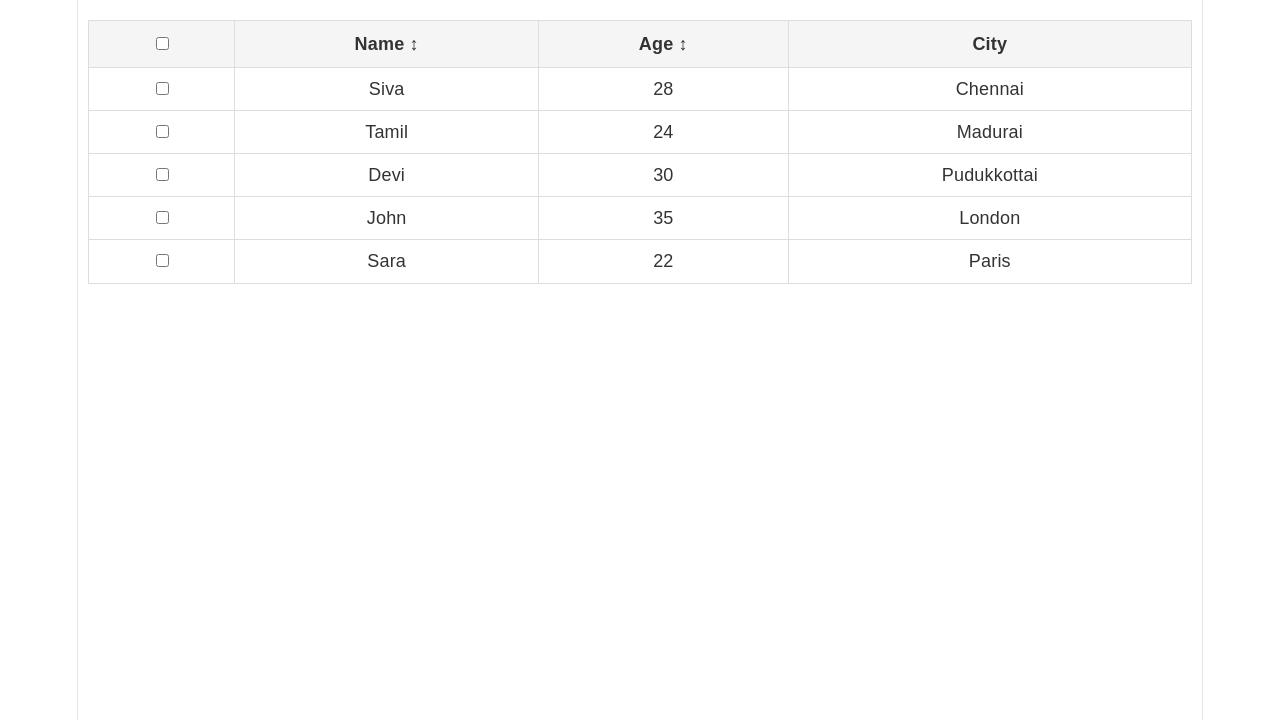
Scenario: DataTable › sorts data when clicking a sortable header
Click the column heading "Age ↕". click: {"x": 663, "y": 44}
box: x1=539 y1=20 x2=788 y2=68
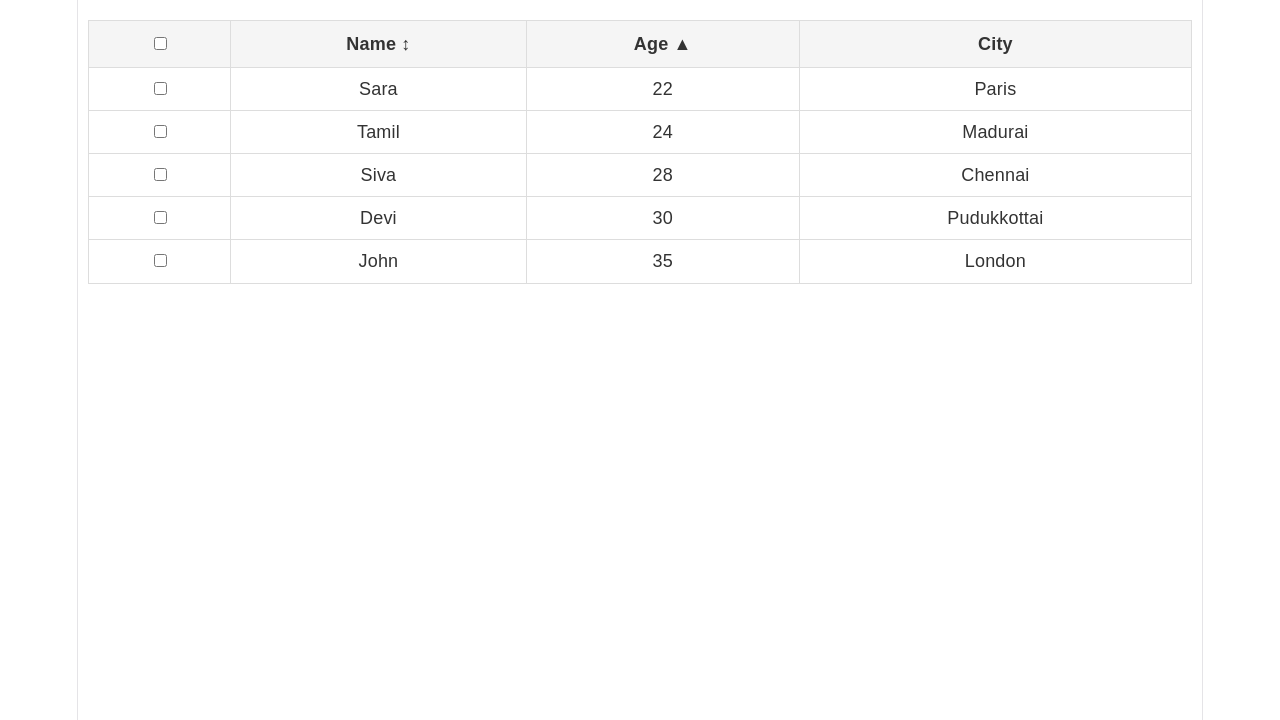
Expected: the cell "22" is shown, x1=526 y1=68 x2=799 y2=111
